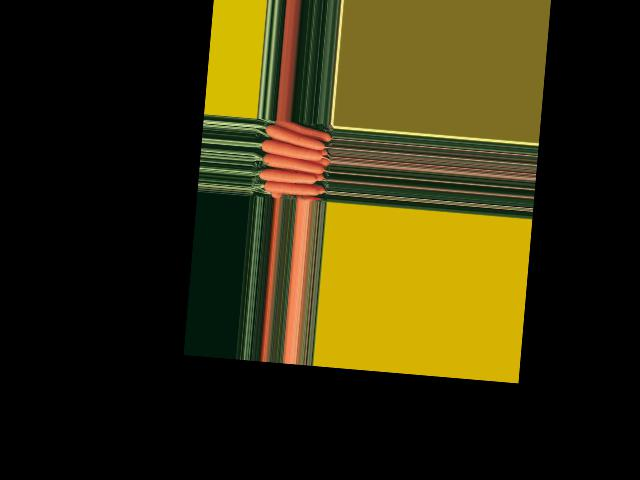carrot: (271, 119, 331, 143)
